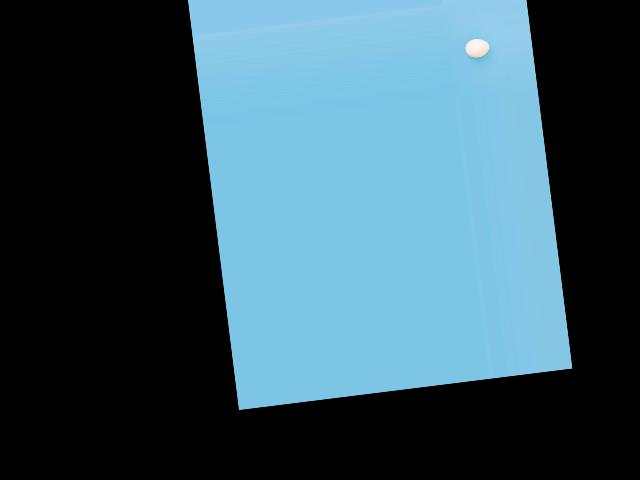egg: (463, 37, 490, 58)
